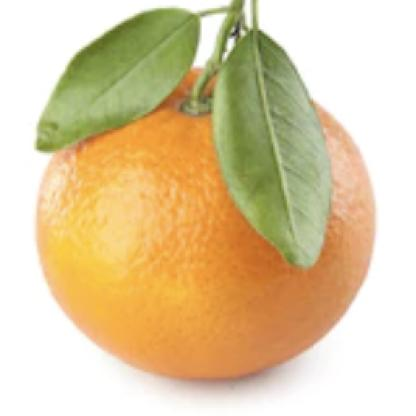fresh: (35, 53, 377, 379)
